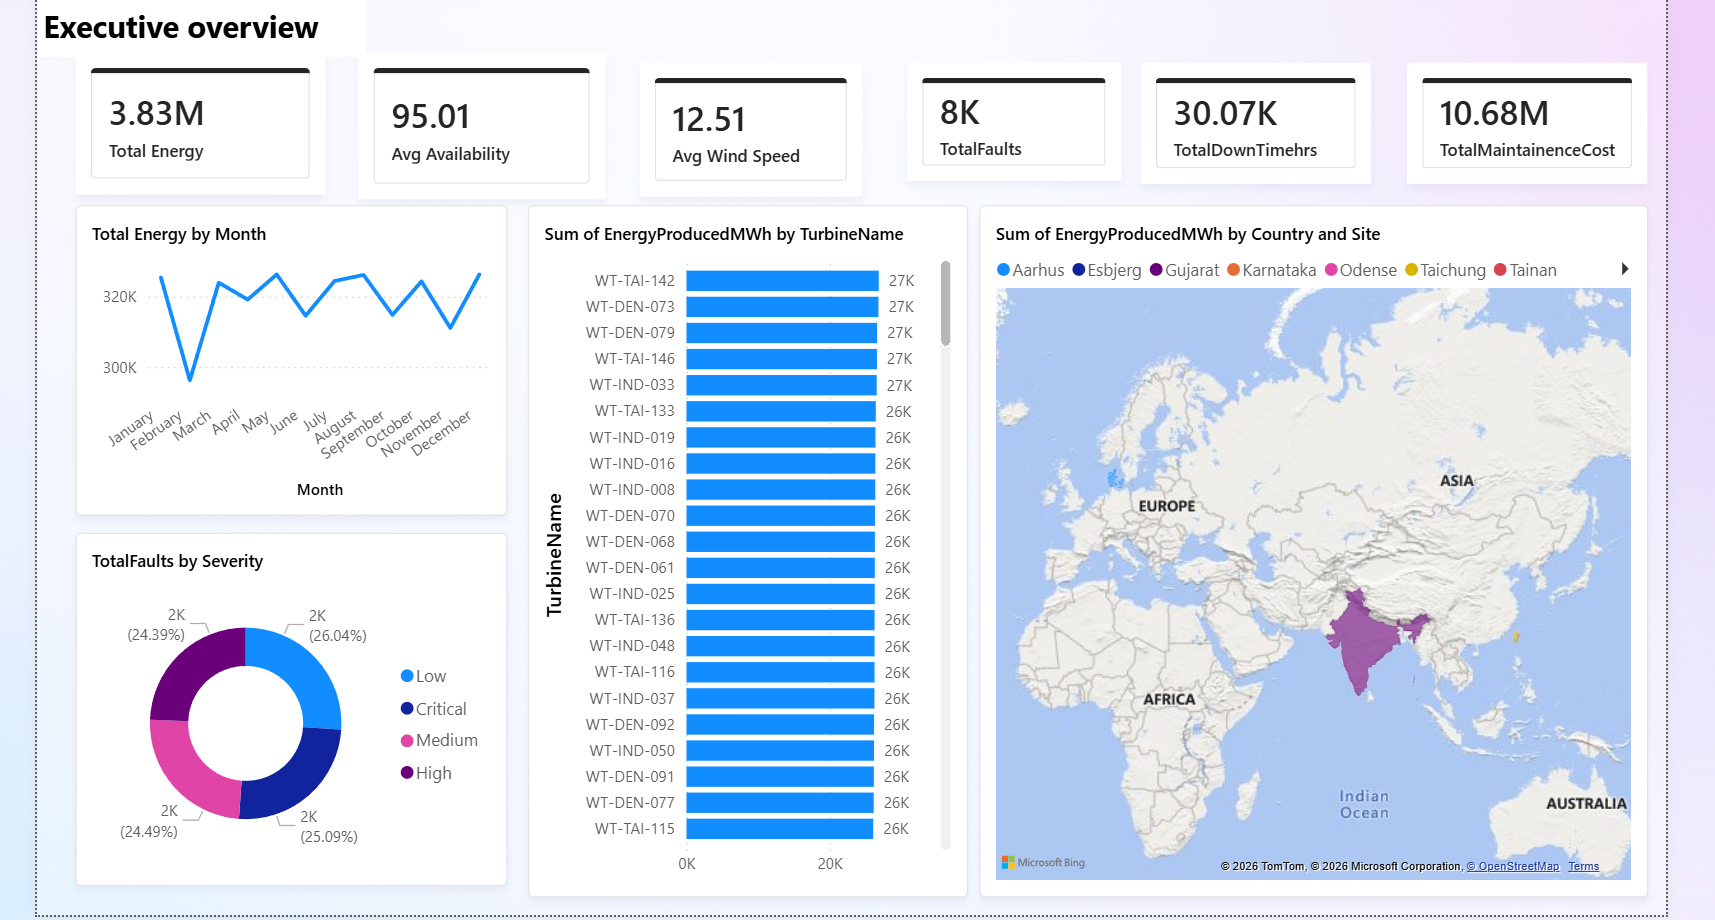

Layout of this report page (visuals, bound fields, positions):
{"tool":"powerbi","page":{"name":"Executive Overview","canvas":[1280,720],"ordinal":0},"visuals":[{"type":"cardVisual","fields":{"Data":["Measure.Total Energy"]},"box":[30.2,41.9,196.5,111.6],"z":0},{"type":"cardVisual","fields":{"Data":["Measure.Avg Availability"]},"box":[252.3,41.9,194.2,115.1],"z":1000},{"type":"cardVisual","fields":{"Data":["Measure.Avg Wind Speed"]},"box":[473.3,50,175.6,105.8],"z":2000},{"type":"cardVisual","fields":{"Data":["Measure.TotalFaults"]},"box":[683.7,50,168.6,93],"z":3000},{"type":"cardVisual","fields":{"Data":["Measure.TotalDownTimehrs"]},"box":[867.4,50,181.4,95.3],"z":4000},{"type":"cardVisual","fields":{"Data":["Measure.TotalMaintainenceCost"]},"box":[1076.7,50,189.5,95.3],"z":5000},{"type":"lineChart","fields":{"Y":["Measure.Total Energy"],"Category":["DimDate.DateKey.Variation.Date Hierarchy.Month"]},"box":[30.2,161.6,339.5,244.2],"z":6000},{"type":"barChart","fields":{"Category":["DimTurbines.TurbineName"],"Y":["Sum(FactProduction.EnergyProducedMWh)"]},"box":[386,161.6,345.3,544.2],"z":7000},{"type":"filledMap","fields":{"Category":["DimTurbines.Country"],"Series":["DimTurbines.Site"]},"box":[740.7,161.6,525.6,544.2],"z":8000},{"type":"donutChart","fields":{"Y":["Measure.TotalFaults"],"Category":["FactFaults.Severity"]},"box":[30.2,419.8,339.5,277.9],"z":9000},{"type":"textbox","box":[0,0,258.1,45.3],"z":10000}]}

Visuals, with their boxes on the page's 1280x720 design canvas (x1, y1, x2, y2). These are canvas units, not pixel positions in the 1715x920 screenshot, which may show the page scaled, cropped or inside an application window:
cardVisual - Measure.Total Energy: select_region(30, 42, 227, 154)
cardVisual - Measure.Avg Availability: select_region(252, 42, 446, 157)
cardVisual - Measure.Avg Wind Speed: select_region(473, 50, 649, 156)
cardVisual - Measure.TotalFaults: select_region(684, 50, 852, 143)
cardVisual - Measure.TotalDownTimehrs: select_region(867, 50, 1049, 145)
cardVisual - Measure.TotalMaintainenceCost: select_region(1077, 50, 1266, 145)
lineChart - Measure.Total Energy x DimDate.DateKey.Variation.Date Hierarchy.Month: select_region(30, 162, 370, 406)
barChart - DimTurbines.TurbineName x Sum(FactProduction.EnergyProducedMWh): select_region(386, 162, 731, 706)
filledMap - DimTurbines.Country x DimTurbines.Site: select_region(741, 162, 1266, 706)
donutChart - Measure.TotalFaults x FactFaults.Severity: select_region(30, 420, 370, 698)
textbox: select_region(0, 0, 258, 45)
